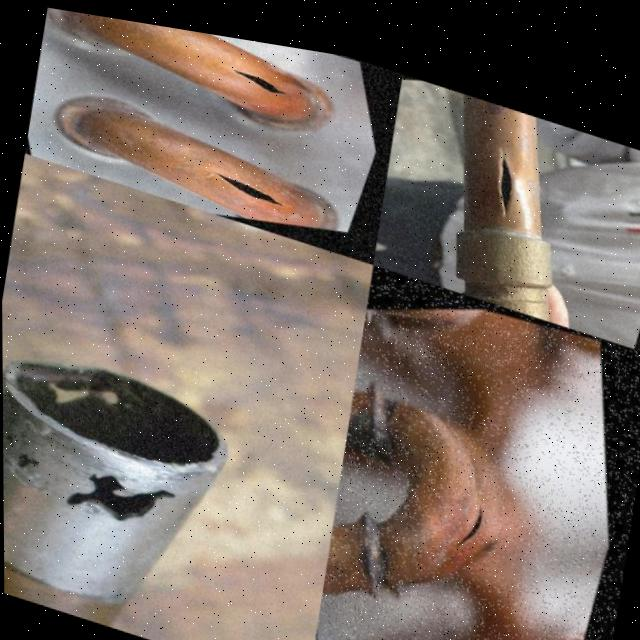crack: (458, 480, 491, 536)
hole: (51, 434, 203, 549), (43, 353, 148, 431)
rupture: (473, 120, 540, 213), (215, 163, 296, 201), (224, 55, 296, 88)
